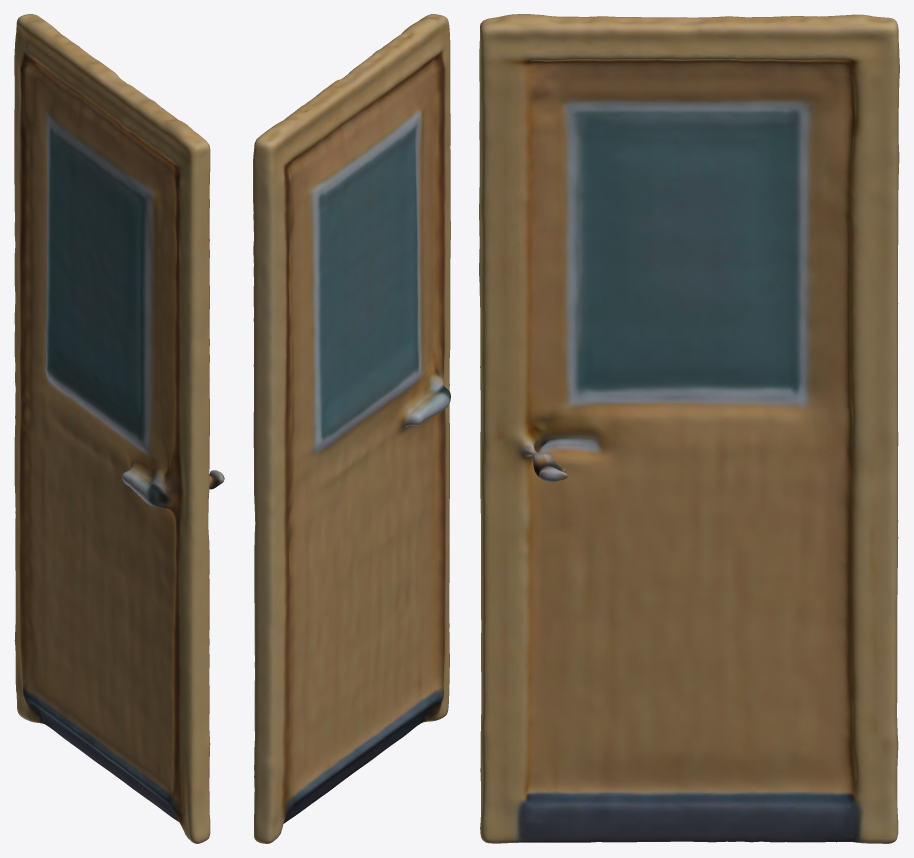
The model's file is 03916ec9fda2_High_school_classro.fbx.
3 views of the same model, side by side, from view 1: azimuth 30°, elevation 25°; view 2: azimuth 150°, elevation 25°; view 3: azimuth 270°, elevation 25° (orthographic). The views are drawn at different scales.
Visible parts, largest first — view 1: high_poly; view 2: high_poly; view 3: high_poly.
Part boxes in pixels (bbox=[...]): high_poly: bbox=[14, 14, 224, 843]; high_poly: bbox=[253, 14, 450, 843]; high_poly: bbox=[479, 14, 899, 843].
Bounding box in the file's own units: 12.23 × 100 × 46.24.
